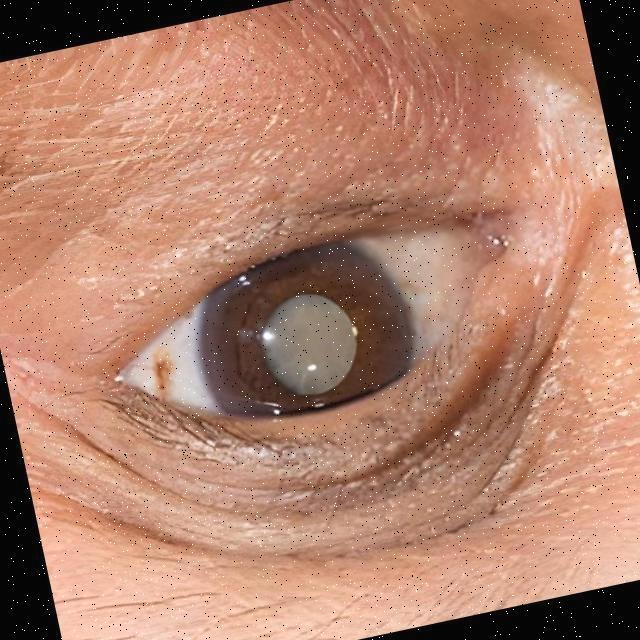Cataract: (160, 212, 448, 459)
